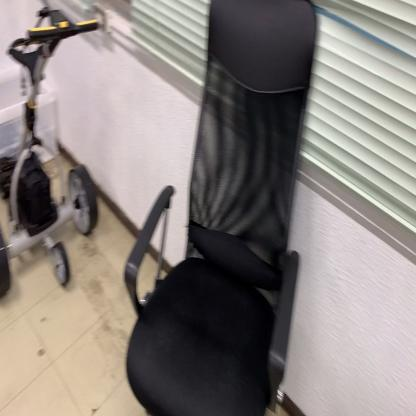chair: (123, 0, 317, 416)
